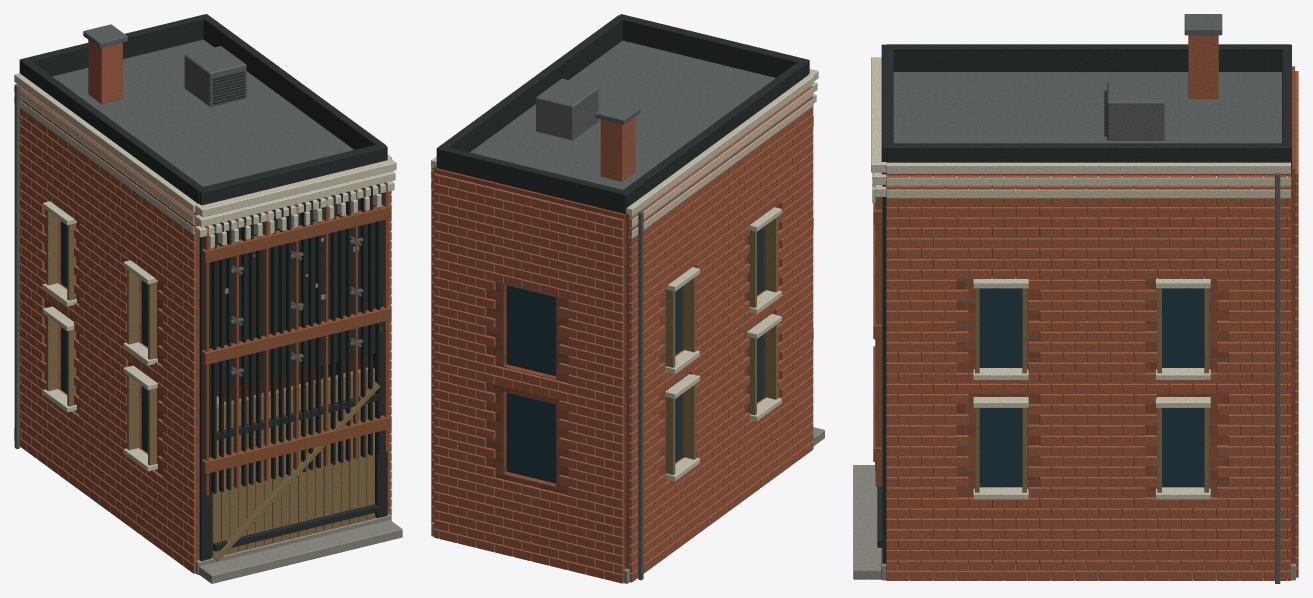
File: WRHS5_lod0.glb
3 renders of one model, left to right at view 1: azimuth 30°, elevation 25°; view 2: azimuth 150°, elevation 25°; view 3: azimuth 270°, elevation 25°, orthographic. The views are drawn at different scales.
Parts seen in each view (by area): view 1: WRHS5_LOD0; view 2: WRHS5_LOD0; view 3: WRHS5_LOD0.
Boxes of the visible parts, x1,y1,x2,y2 form: WRHS5_LOD0: [14, 14, 402, 583]; WRHS5_LOD0: [431, 14, 824, 583]; WRHS5_LOD0: [853, 14, 1298, 583].
Size of the model in its own units: 4.11 by 7.85 by 6.6.
Materials: 11 (10 with a texture image).
